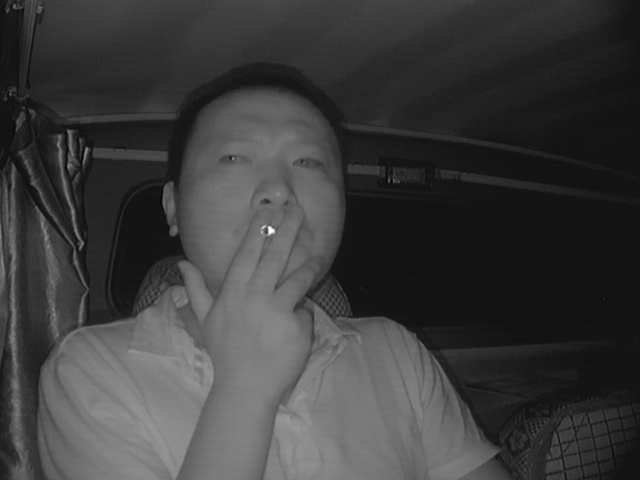hand: (228, 210, 324, 329)
